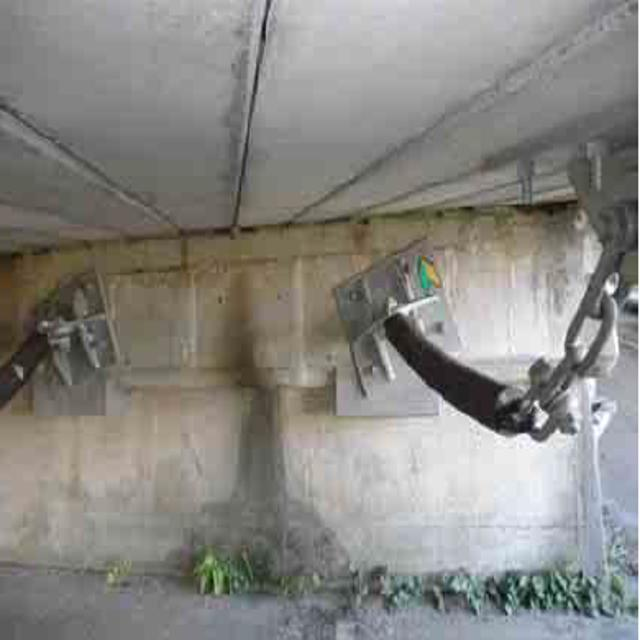leakage: (222, 261, 322, 613)
